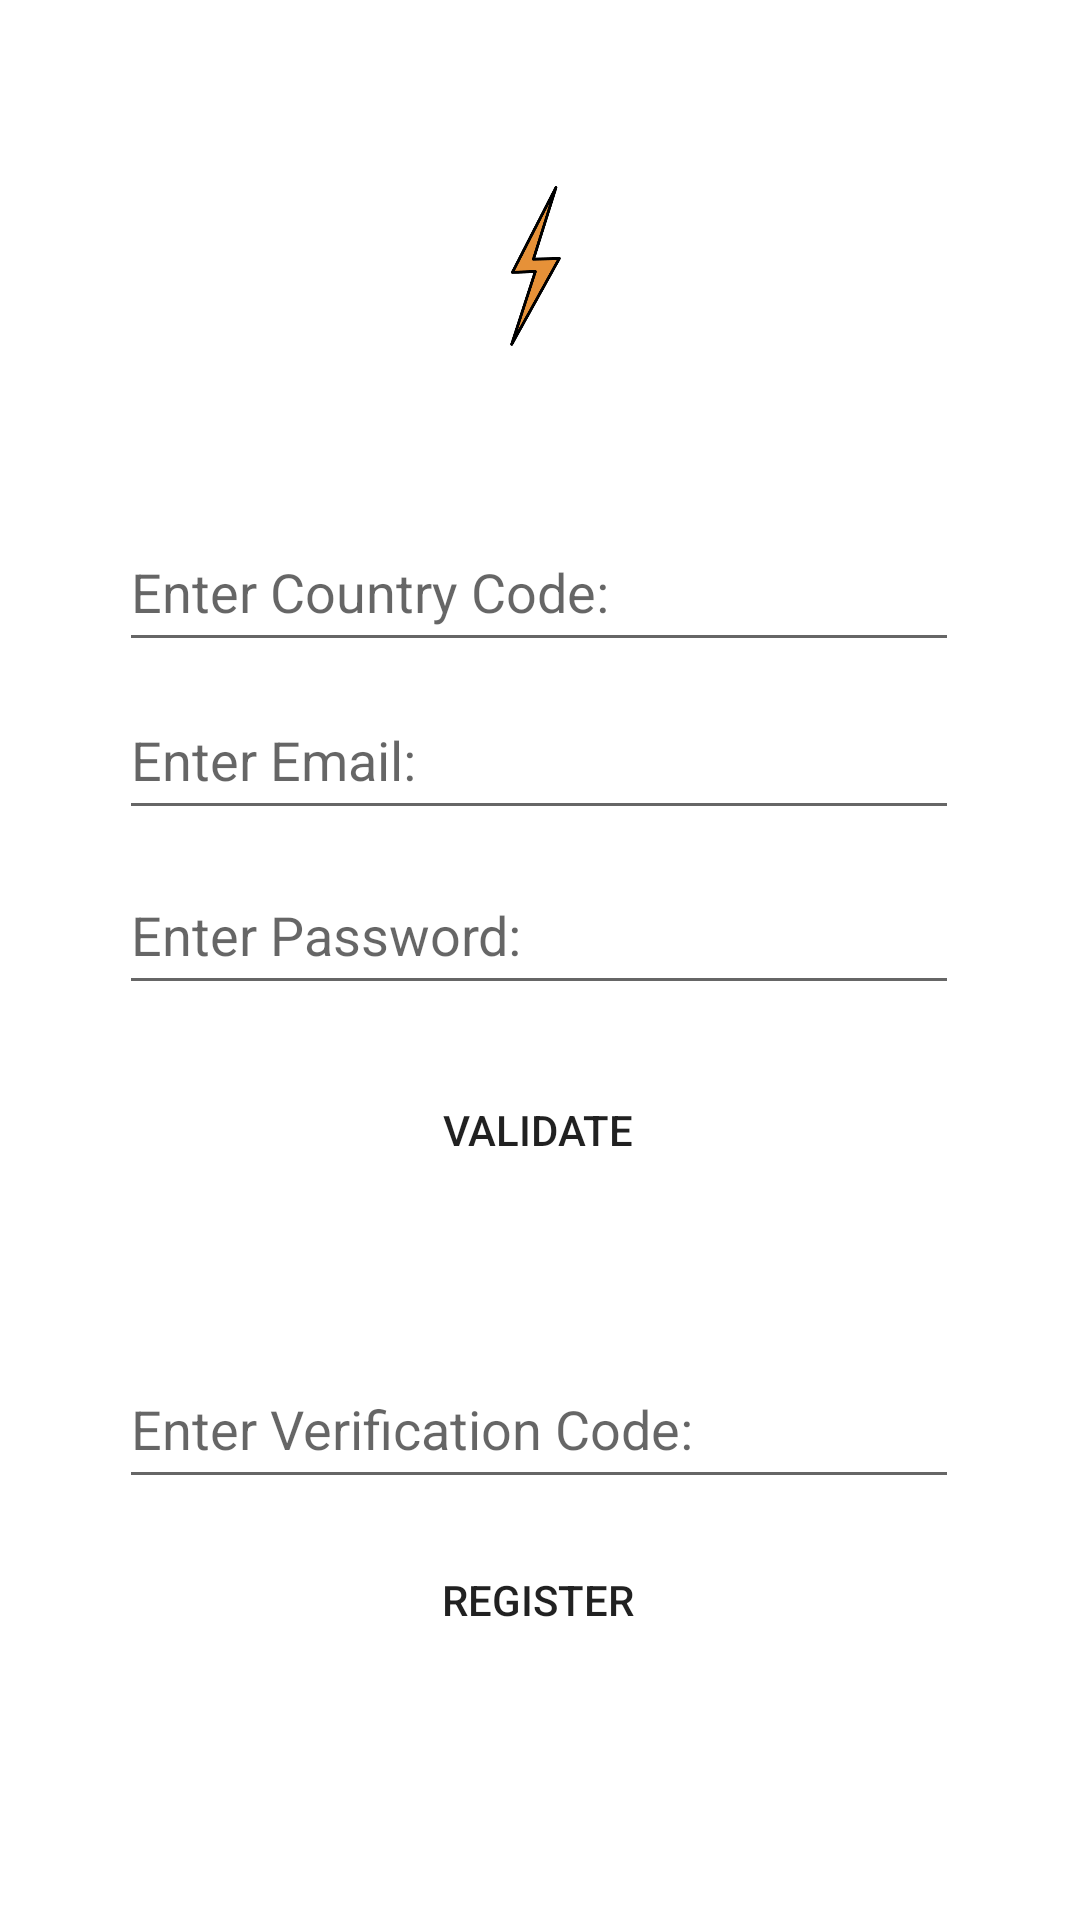

Named icons in this screenshot (1080px×1920px) and their bounding boxes, (x1, y1, x2, y2):
rayo: (510, 186, 561, 346)
